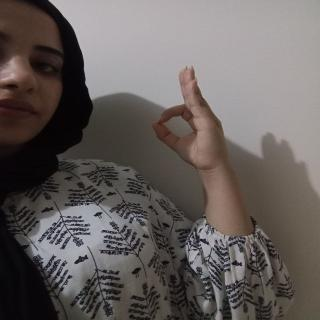Space: (150, 62, 234, 178)
